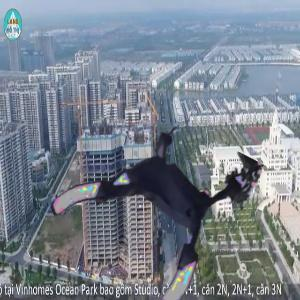drone: (61, 117, 237, 293)
